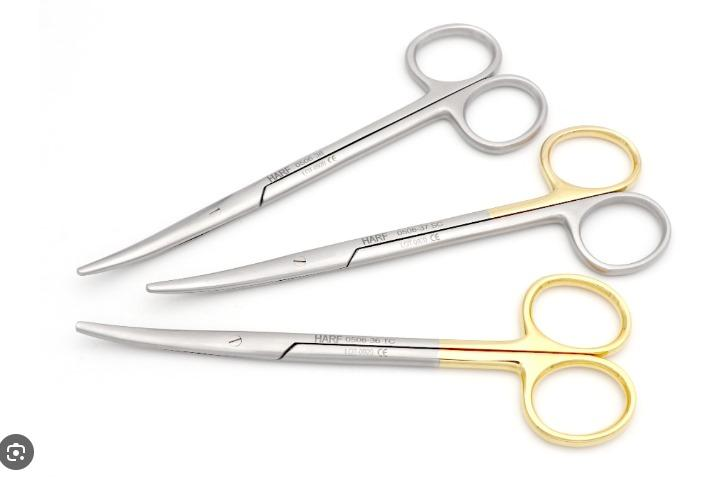Curved Mayo: (64, 22, 537, 284), (149, 109, 664, 307), (69, 278, 634, 451)
